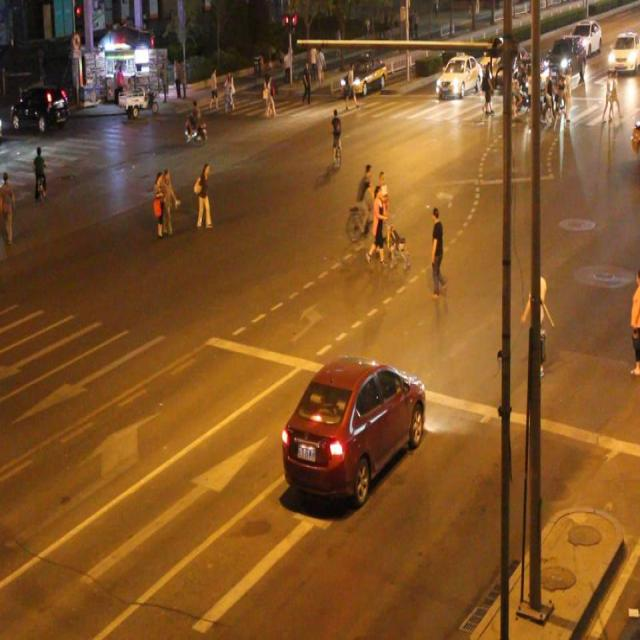car: (280, 357, 424, 502)
